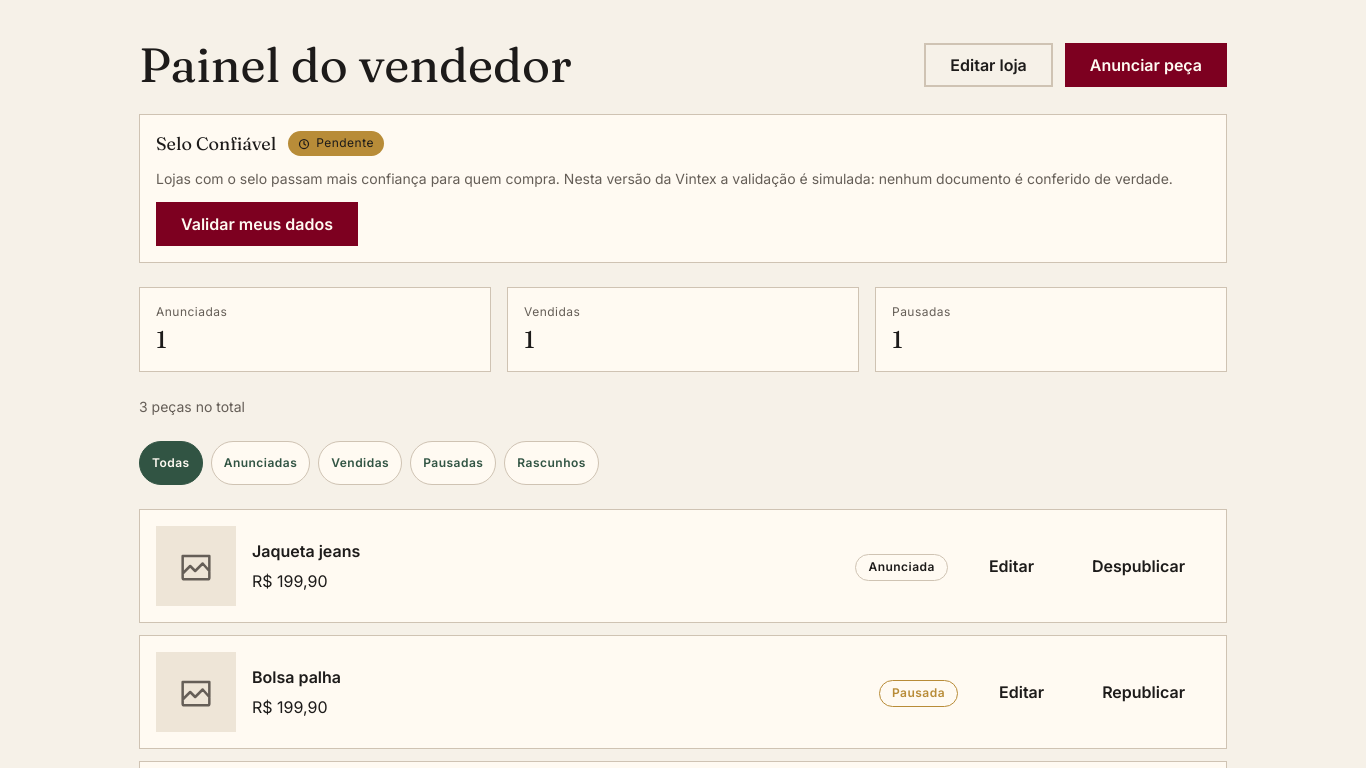
Scenario: <SellerAdmin /> › ações por peça (FE-US019-2) › Despublicar pausa a peça, que continua na lista, e avisa com Desfazer
The image size is (1366, 768).
Check: the button "Jaqueta jeans" is shown, box [252, 538, 360, 564]
What coordinates should you click on to do the following:
click the button "Despublicar"
I would click on:
 (1138, 566)
Its box is [1067, 544, 1210, 588].
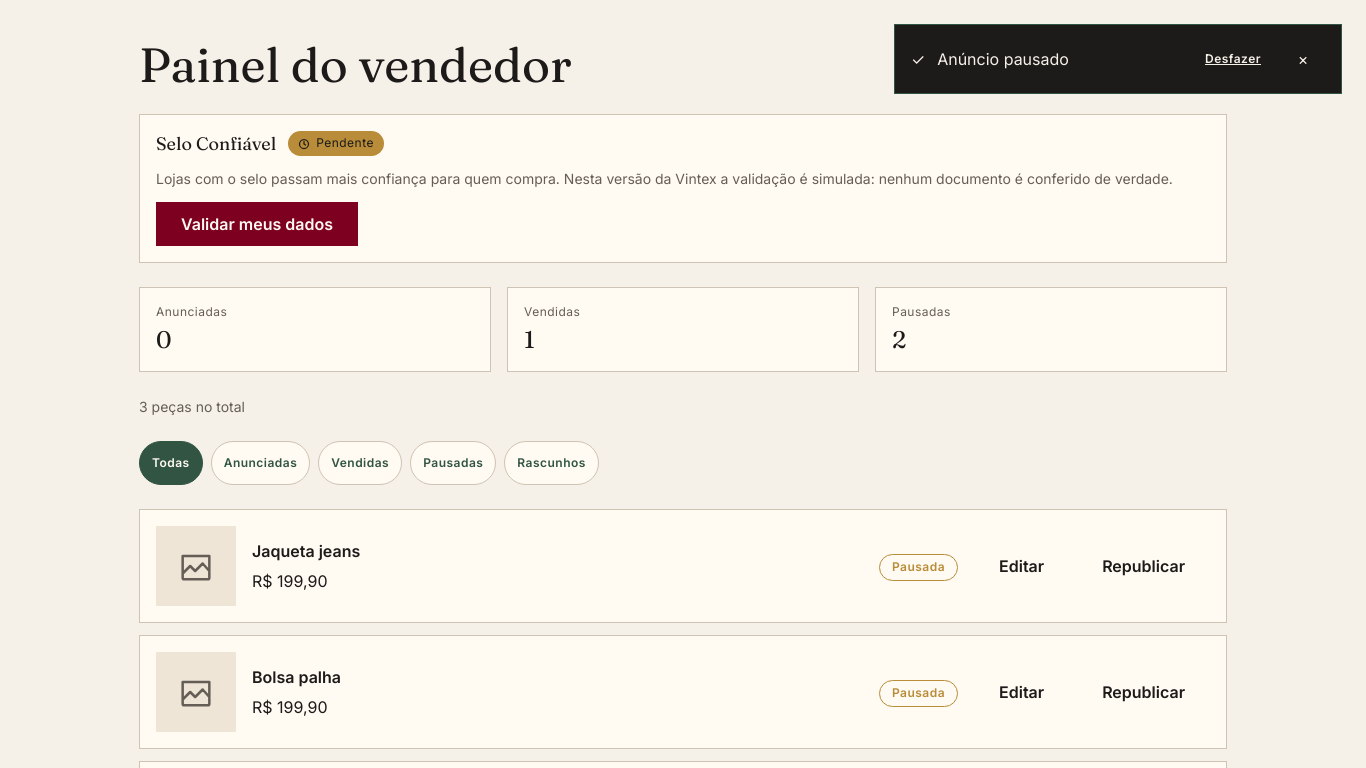
Check: the text "Anúncio pausado" is shown, box [937, 49, 1069, 69]
Check: the 1st text "Pausada" is shown, box [879, 554, 958, 581]
Check: the 1st button "Republicar" is shown, box [1077, 544, 1210, 588]
What coordinates should you click on to do the following:
click the button "Desfazer"
I would click on:
 (1233, 59)
Its box is [1197, 37, 1269, 81].
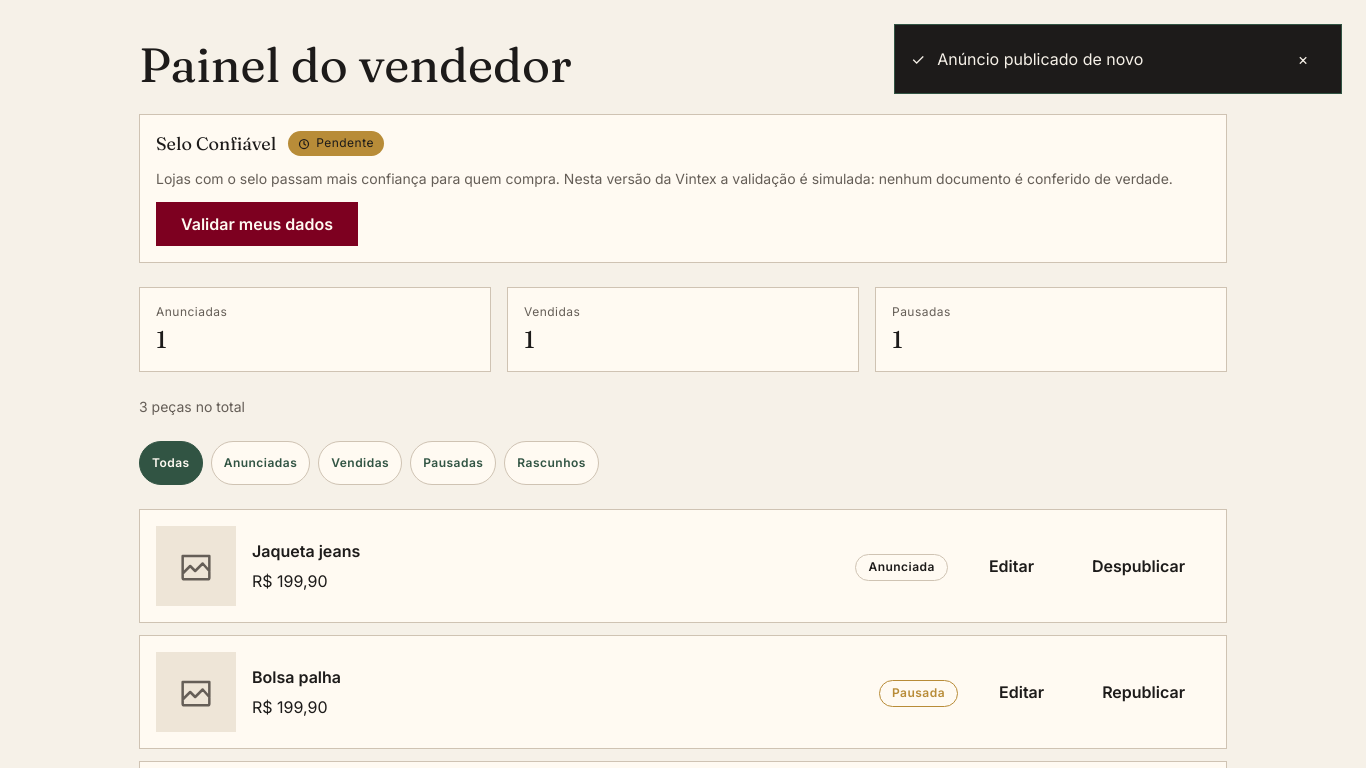
Check: the button "Despublicar" is shown, box [1067, 544, 1210, 588]
